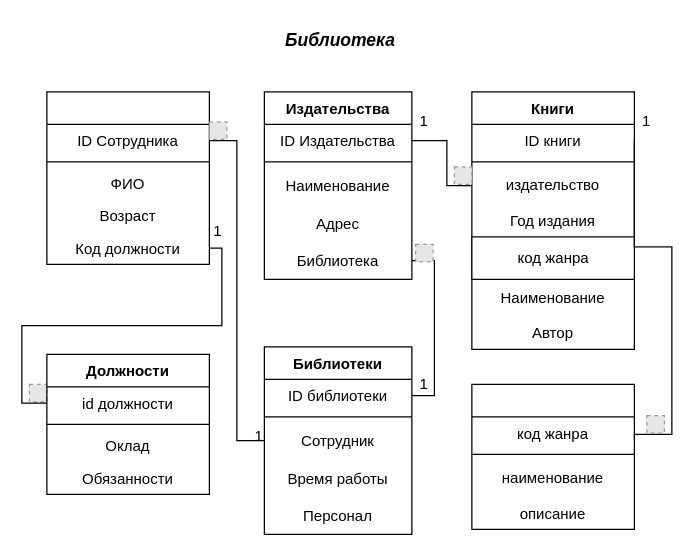
The diagram is 695 pixels wide and 556 high, and some of its shapes have lost their labels. Grey dashed boxes stand in for pictures. The shapes that lost their labels are listed below. From the top down, each one's box as (x1, y1, x2, y2) in pixels, then its label:
(46, 91, 209, 264): Сотрудники
(471, 383, 634, 529): Жанры
